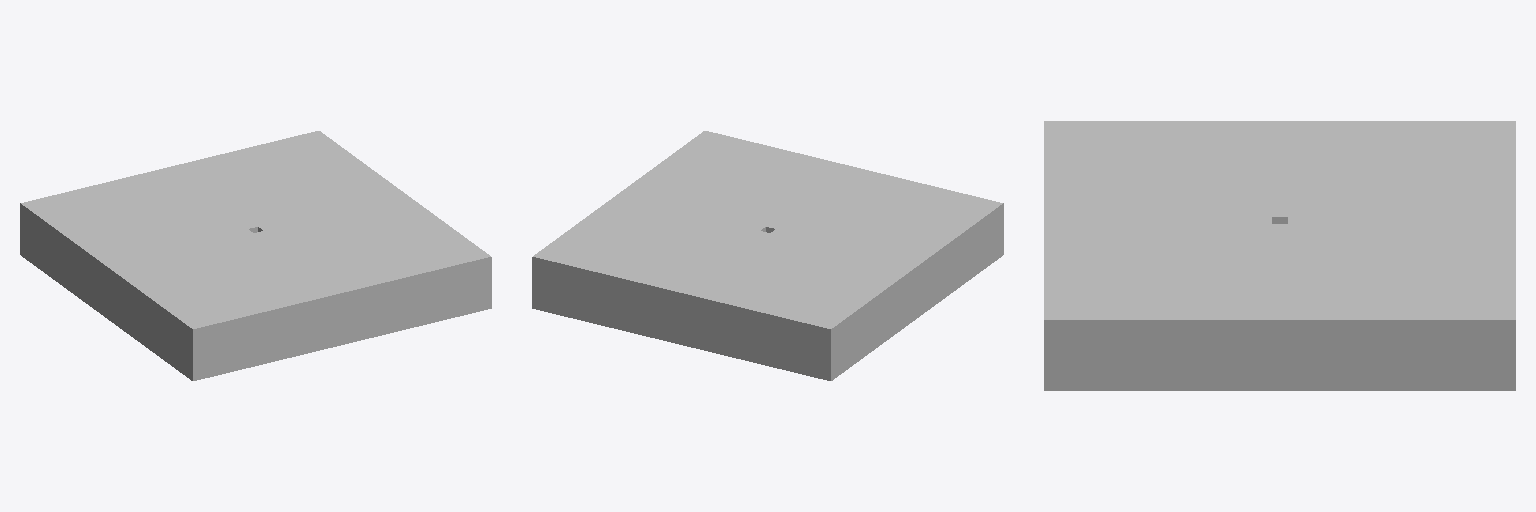
The robot description file, URDF, robot "square_10mm.urdf":
<?xml version="0.0" ?>
<robot name="square_10mm.urdf">
  <link name="base">
    <inertial>
      <origin rpy="0 0 0" xyz="0 0 0"/>
      <mass value="0.0"/>
      <inertia ixx="0.03" ixy="0" ixz="0" iyy="0.03" iyz="0" izz="0.005"/>
    </inertial>
  </link>

  <joint name="empty" type="fixed">
    <parent link="base"/>
    <child link="box"/>
  </joint>

  <link name="box">
    <inertial>
      <origin rpy="3.14159 0 0" xyz="0 0 0.0"/>
      <mass value="0"/>
      <inertia ixx="0.001" ixy="0" ixz="0" iyy="0.001" iyz="0" izz="0.001"/>
    </inertial>
     
     <visual>
      <origin rpy="1.57075 0 0" xyz="0 0 0"/>
      <geometry>
        <mesh filename="stl/visual/square_10mm.STL" scale="0.002 0.002 0.002"/>
      </geometry>
       <material name="white">
        <color rgba="0.8 0.8 0.8 1"/>
      </material>
    </visual>
    
    <collision concave="yes">
      <origin rpy="1.57075 0 0" xyz="0 0 0"/>
      <geometry>
           <mesh filename="stl/collision/square_10mm.STL" scale="0.002 0.002 0.002"/>
      </geometry>
    </collision>
  </link>
</robot>

--- What the picture shows (computed from the rendered views, not written in the file) ---
The picture shows the robot from 3 angles, left to right: view 1: azimuth 30°, elevation 25°; view 2: azimuth 150°, elevation 25°; view 3: azimuth 270°, elevation 25°; orthographic projection.
Model square_10mm.urdf with 2 links and 1 joints (1 fixed), rooted at base, posed all joints at 0.
Visible links, largest first — view 1: box; view 2: box; view 3: box.
Boxes of the visible links, <box> form: box: <box>20,131,491,380</box>; box: <box>532,131,1003,380</box>; box: <box>1044,121,1515,390</box>.
Size in the robot's own frame: 0.6 by 0.6 by 0.1 metres.
1 mesh visuals loaded from 1 distinct referenced files (1 binary STL).